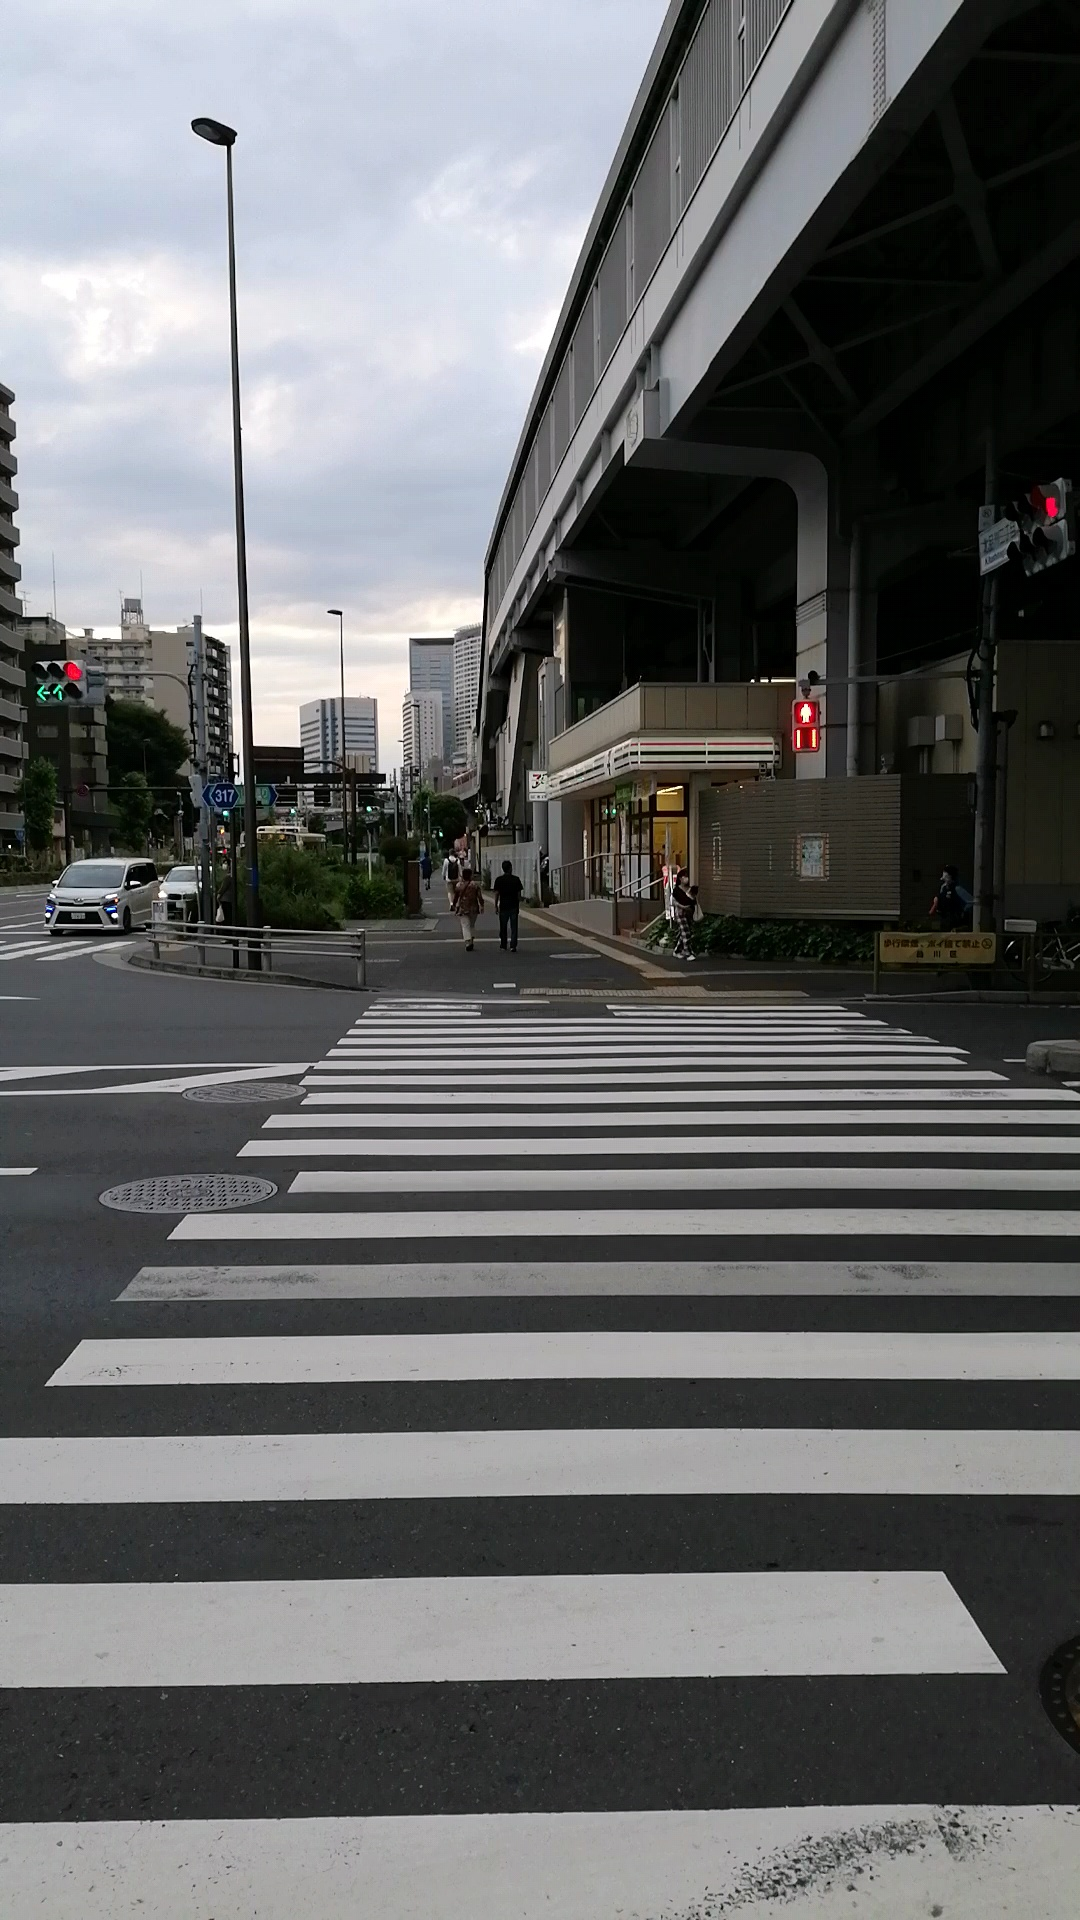red: (790, 698, 822, 754)
